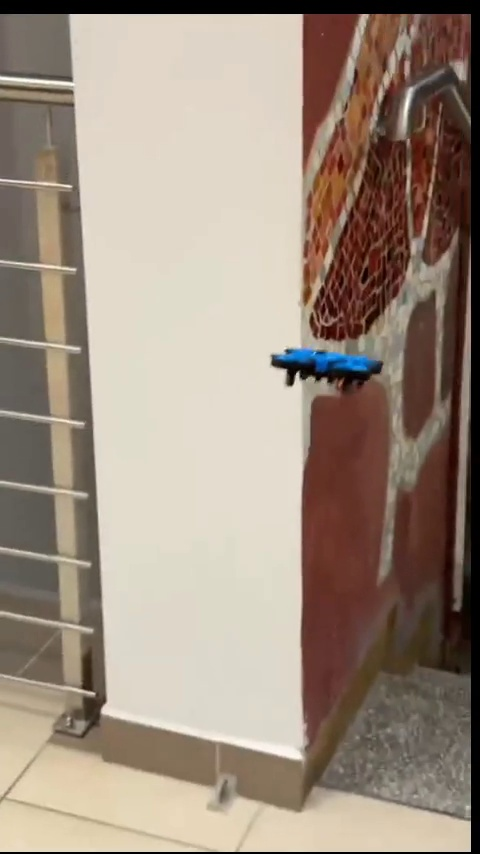drone: (271, 345, 384, 393)
